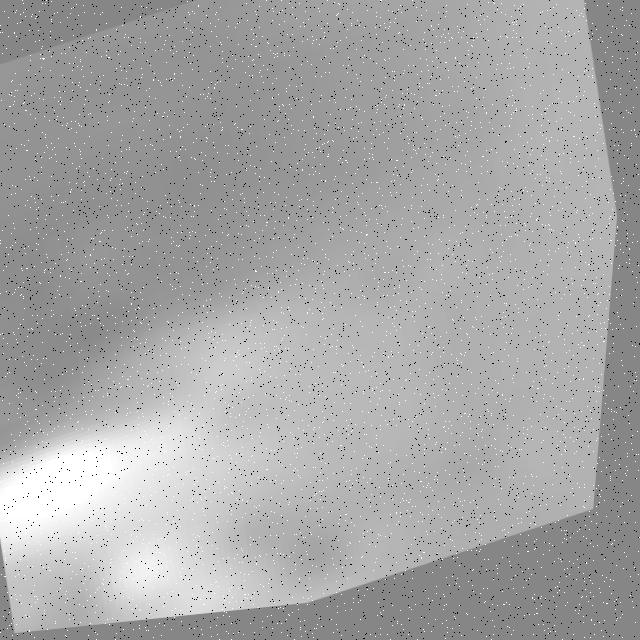person: (1, 259, 362, 606), (31, 559, 371, 635)
